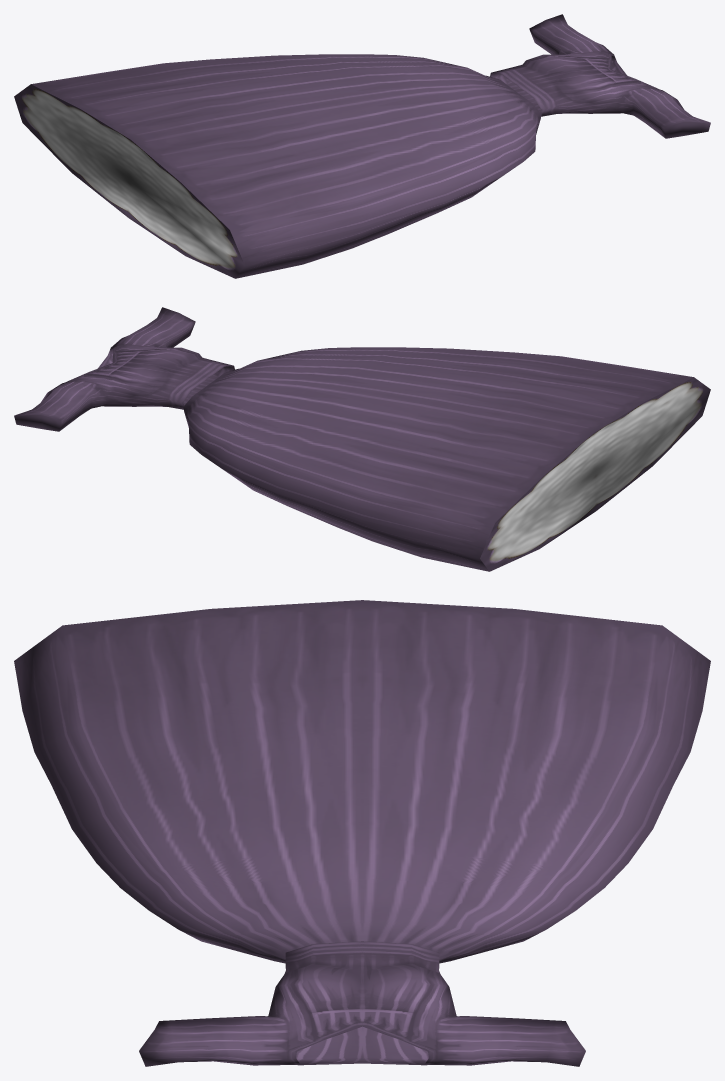
The model's file is WorldItem_RoundGown.fbx.
The picture shows the model from 3 angles, top to bottom: view 1: azimuth 30°, elevation 25°; view 2: azimuth 150°, elevation 25°; view 3: azimuth 270°, elevation 25°; orthographic projection. The views are drawn at different scales.
Visible parts, largest first — view 1: Top; view 2: Top; view 3: Top.
Boxes of the visible parts, x1,y1,x2,y2 form: Top: [14, 14, 710, 278]; Top: [14, 307, 710, 571]; Top: [14, 600, 710, 1066].
Size of the model in its own units: 0.629 by 0.0928 by 0.4915.
